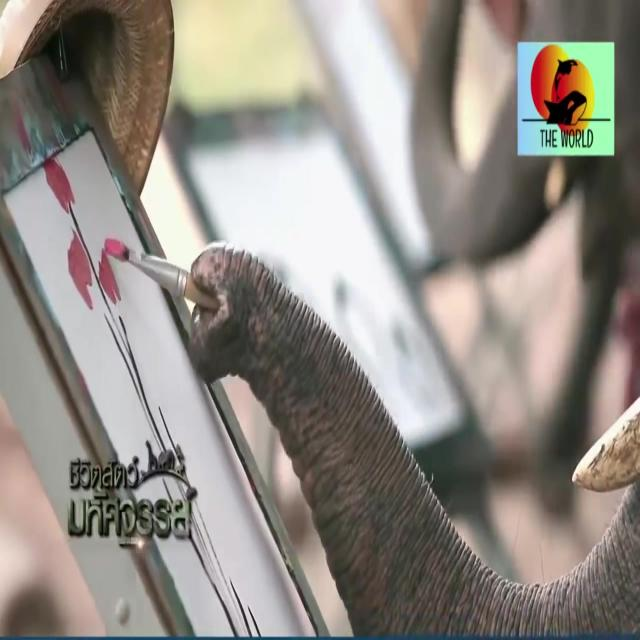Elephant: (179, 157, 640, 640)
